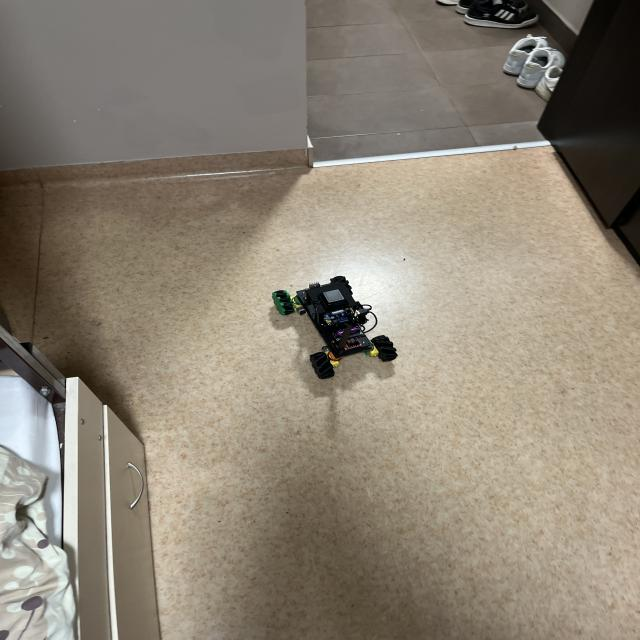robot: (272, 276, 397, 378)
